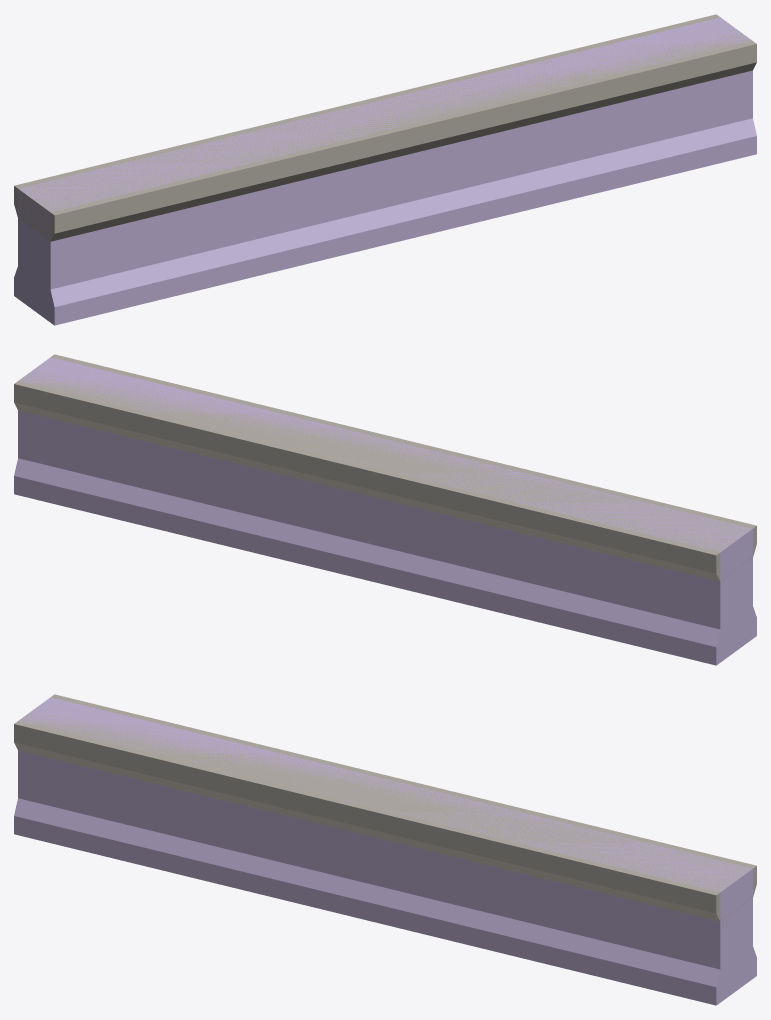
Rendered from roof-edge.glb.
3 views of the same model, one above another, from view 1: azimuth 30°, elevation 25°; view 2: azimuth 150°, elevation 25°; view 3: azimuth 330°, elevation 25° (orthographic).
Parts seen in each view (by area): view 1: roof-edge; view 2: roof-edge; view 3: roof-edge.
Part boxes in pixels (left/top/right/bottom): roof-edge: left=14, top=14, right=756, bottom=325; roof-edge: left=14, top=354, right=756, bottom=665; roof-edge: left=14, top=694, right=756, bottom=1005.
Size of the model in its own units: 2 by 0.3 by 0.2.
